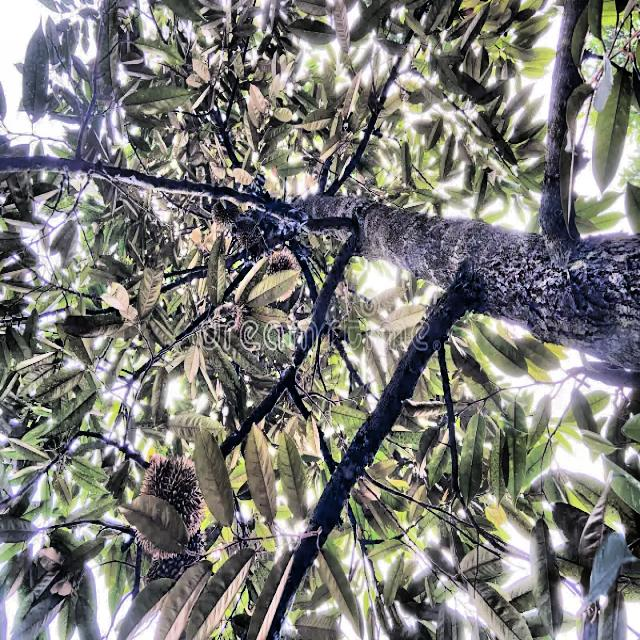arvore: (165, 177, 640, 392)
